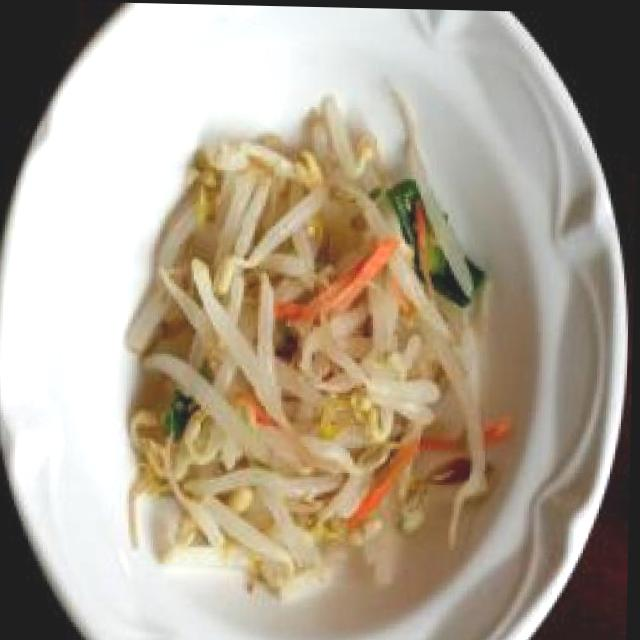mung_bean_sprouts: (125, 102, 493, 587)
